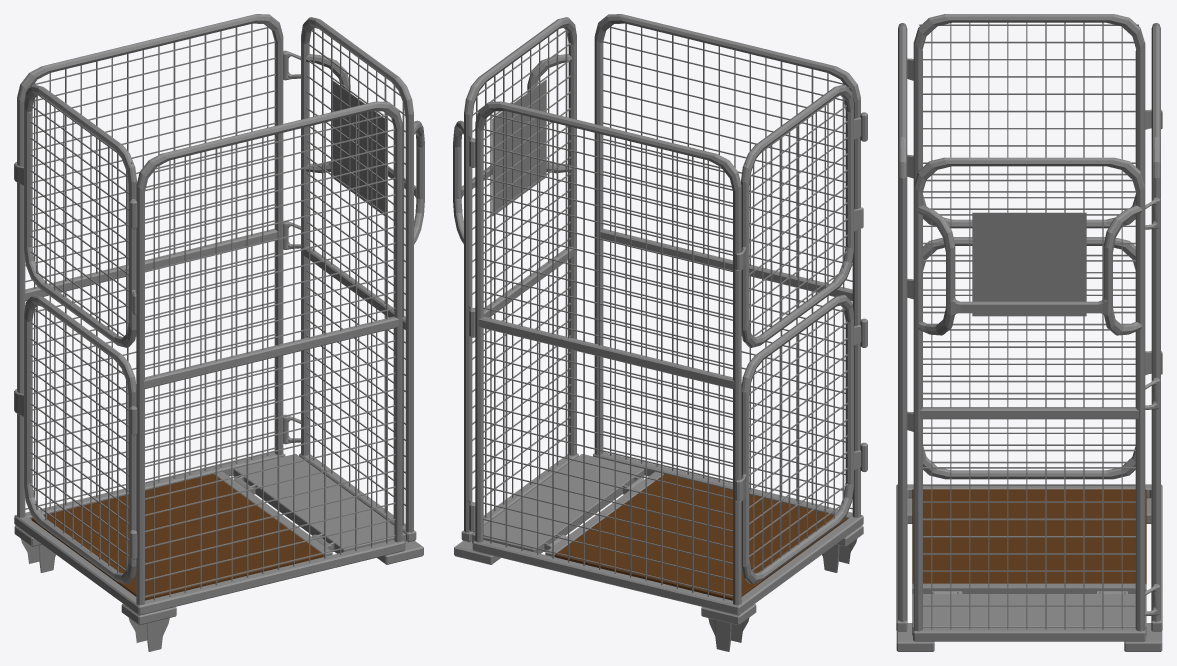
Rendered from cart_structure.dae.
3 views of the same model, side by side, from view 1: azimuth 30°, elevation 25°; view 2: azimuth 150°, elevation 25°; view 3: azimuth 270°, elevation 25° (orthographic). The views are drawn at different scales.
Visible parts, largest first — view 1: cart, Cube.002, Plane.008, Plane.009, Plane.007, Plane.006, Cube.001, Plane.004, Cube.004, Cube.006, Cube.005, Plane.005 (+10 smaller); view 2: cart, Cube.002, Plane.007, Plane.006, Plane.008, Plane.009, Cube.001, Plane.004, Cube.004, Cube.006, Cube.005, Plane.011 (+10 smaller); view 3: Cube.002, Cube.001, cart, Plane.014, Plane.005, Plane.004, Cube.004, Cube.005, Cube.007, Plane.013, Plane.010, Cube.006 (+3 smaller).
Part boxes in pixels (bbox=[...]): cart: bbox=[14, 14, 405, 615]; Cube.002: bbox=[31, 474, 323, 600]; Plane.008: bbox=[153, 111, 387, 600]; Plane.009: bbox=[145, 114, 395, 597]; Plane.007: bbox=[34, 23, 268, 508]; Plane.006: bbox=[25, 27, 275, 509]; Cube.001: bbox=[299, 17, 416, 542]; Plane.004: bbox=[313, 27, 404, 525]; Cube.004: bbox=[233, 454, 405, 553]; Cube.006: bbox=[14, 295, 136, 584]; Cube.005: bbox=[14, 84, 136, 347]; Plane.005: bbox=[306, 30, 405, 505]; cart: bbox=[467, 14, 867, 615]; Cube.002: bbox=[554, 474, 846, 600]; Plane.007: bbox=[490, 111, 724, 600]; Plane.006: bbox=[483, 114, 732, 596]; Plane.008: bbox=[610, 23, 844, 508]; Plane.009: bbox=[602, 26, 852, 509]; Cube.001: bbox=[461, 17, 578, 542]; Plane.004: bbox=[476, 30, 567, 517]; Cube.004: bbox=[472, 454, 644, 553]; Cube.006: bbox=[735, 295, 861, 584]; Cube.005: bbox=[735, 84, 863, 347]; Plane.011: bbox=[753, 307, 843, 572]; Cube.002: bbox=[912, 489, 1146, 583]; Cube.001: bbox=[913, 157, 1145, 641]; cart: bbox=[896, 23, 1162, 631]; Plane.014: bbox=[972, 212, 1086, 316]; Plane.005: bbox=[922, 173, 1135, 606]; Plane.004: bbox=[931, 166, 1122, 629]; Cube.004: bbox=[912, 591, 1146, 635]; Cube.005: bbox=[907, 14, 1162, 228]; Cube.007: bbox=[916, 205, 1141, 335]; Plane.013: bbox=[919, 24, 1138, 215]; Plane.010: bbox=[923, 254, 1135, 463]; Cube.006: bbox=[907, 237, 1162, 479].
Bounding box in the file's own units: 1.02 × 0.7004 × 1.52.
